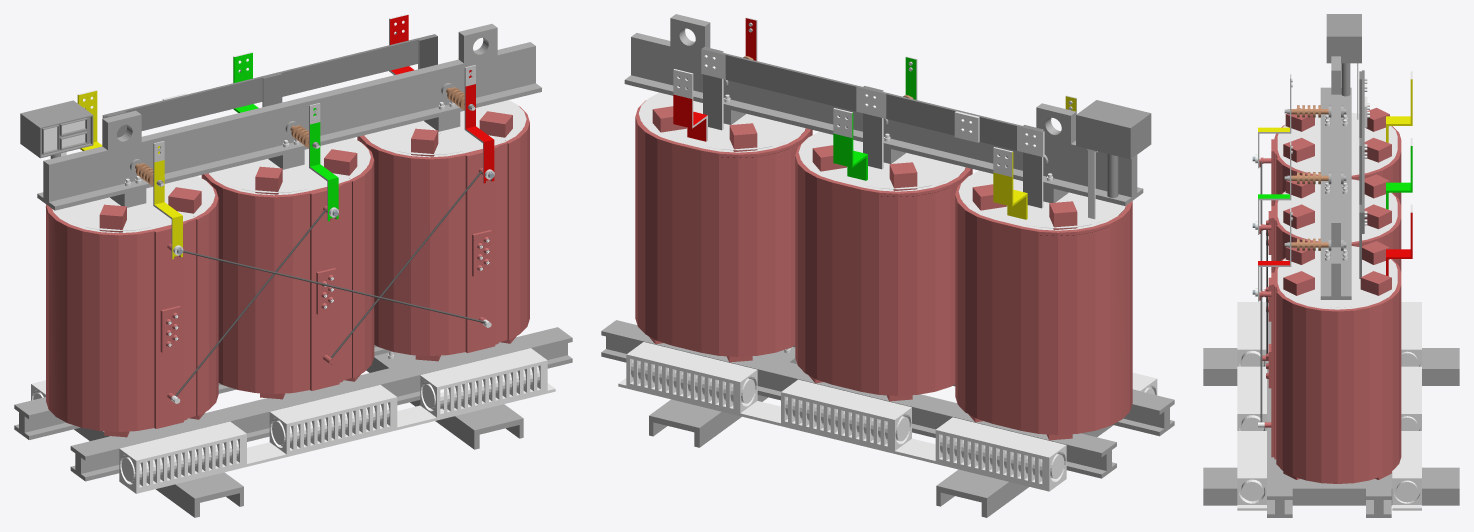
Rendered from drytypetransformer.glb.
3 renders of one model, left to right at view 1: azimuth 30°, elevation 25°; view 2: azimuth 150°, elevation 25°; view 3: azimuth 270°, elevation 25°, orthographic. The views are drawn at different scales.
Parts seen in each view (by area): view 1: Group39, Group4, Group17, Group29, Group2, Group20, Group3, Group40; view 2: Group39, Group23, Group4, Group40, Group2, Group3, Group29; view 3: Group39, Group2, Group4, Group23, Group17, Group20, Group3, Group29, Group40, Group28, Group22, Group68.
Boxes of the visible parts, x1,y1,x2,y2 form: Group39: (46, 14, 529, 437); Group4: (37, 24, 541, 210); Group17: (119, 383, 555, 493); Group29: (70, 327, 572, 481); Group2: (61, 112, 523, 517); Group20: (420, 348, 547, 417); Group3: (20, 100, 93, 158); Group40: (14, 345, 393, 439); Group39: (635, 17, 1132, 440); Group23: (618, 342, 1066, 491); Group4: (624, 14, 1143, 205); Group40: (601, 320, 1116, 478); Group2: (630, 108, 1113, 517); Group3: (1076, 100, 1151, 197); Group29: (793, 345, 1174, 436); Group39: (1252, 70, 1412, 483); Group2: (1203, 63, 1459, 505); Group4: (1320, 56, 1351, 299); Group23: (1392, 302, 1421, 510); Group17: (1237, 302, 1266, 510); Group20: (1237, 431, 1266, 504); Group3: (1326, 14, 1361, 96); Group29: (1267, 303, 1292, 517); Group40: (1366, 474, 1391, 517); Group28: (1284, 105, 1346, 117); Group22: (1284, 238, 1346, 250); Group68: (1284, 172, 1346, 184).
Size of the model in its own units: 1.89 by 1.3 by 0.96.
